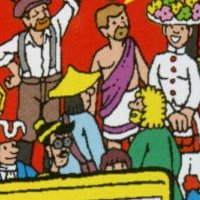odlaw: (48, 121, 70, 165)
